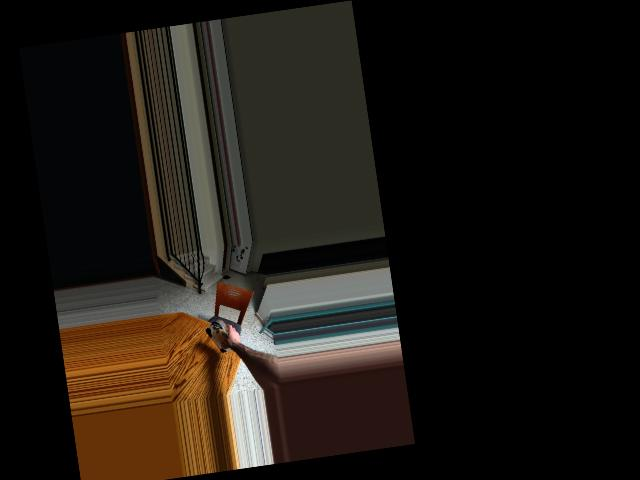cheese: (204, 317, 241, 357)
